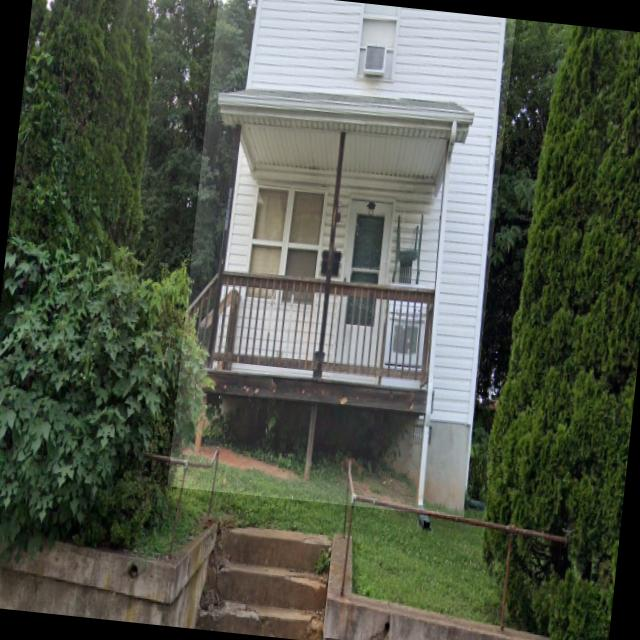House: (166, 0, 515, 517)
